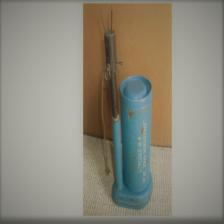M2A1: (98, 6, 154, 210)
